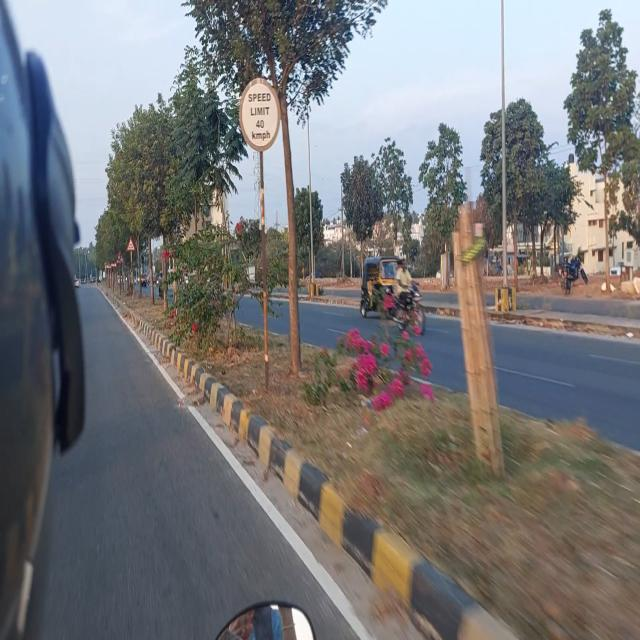bien_cam: (238, 71, 282, 155)
